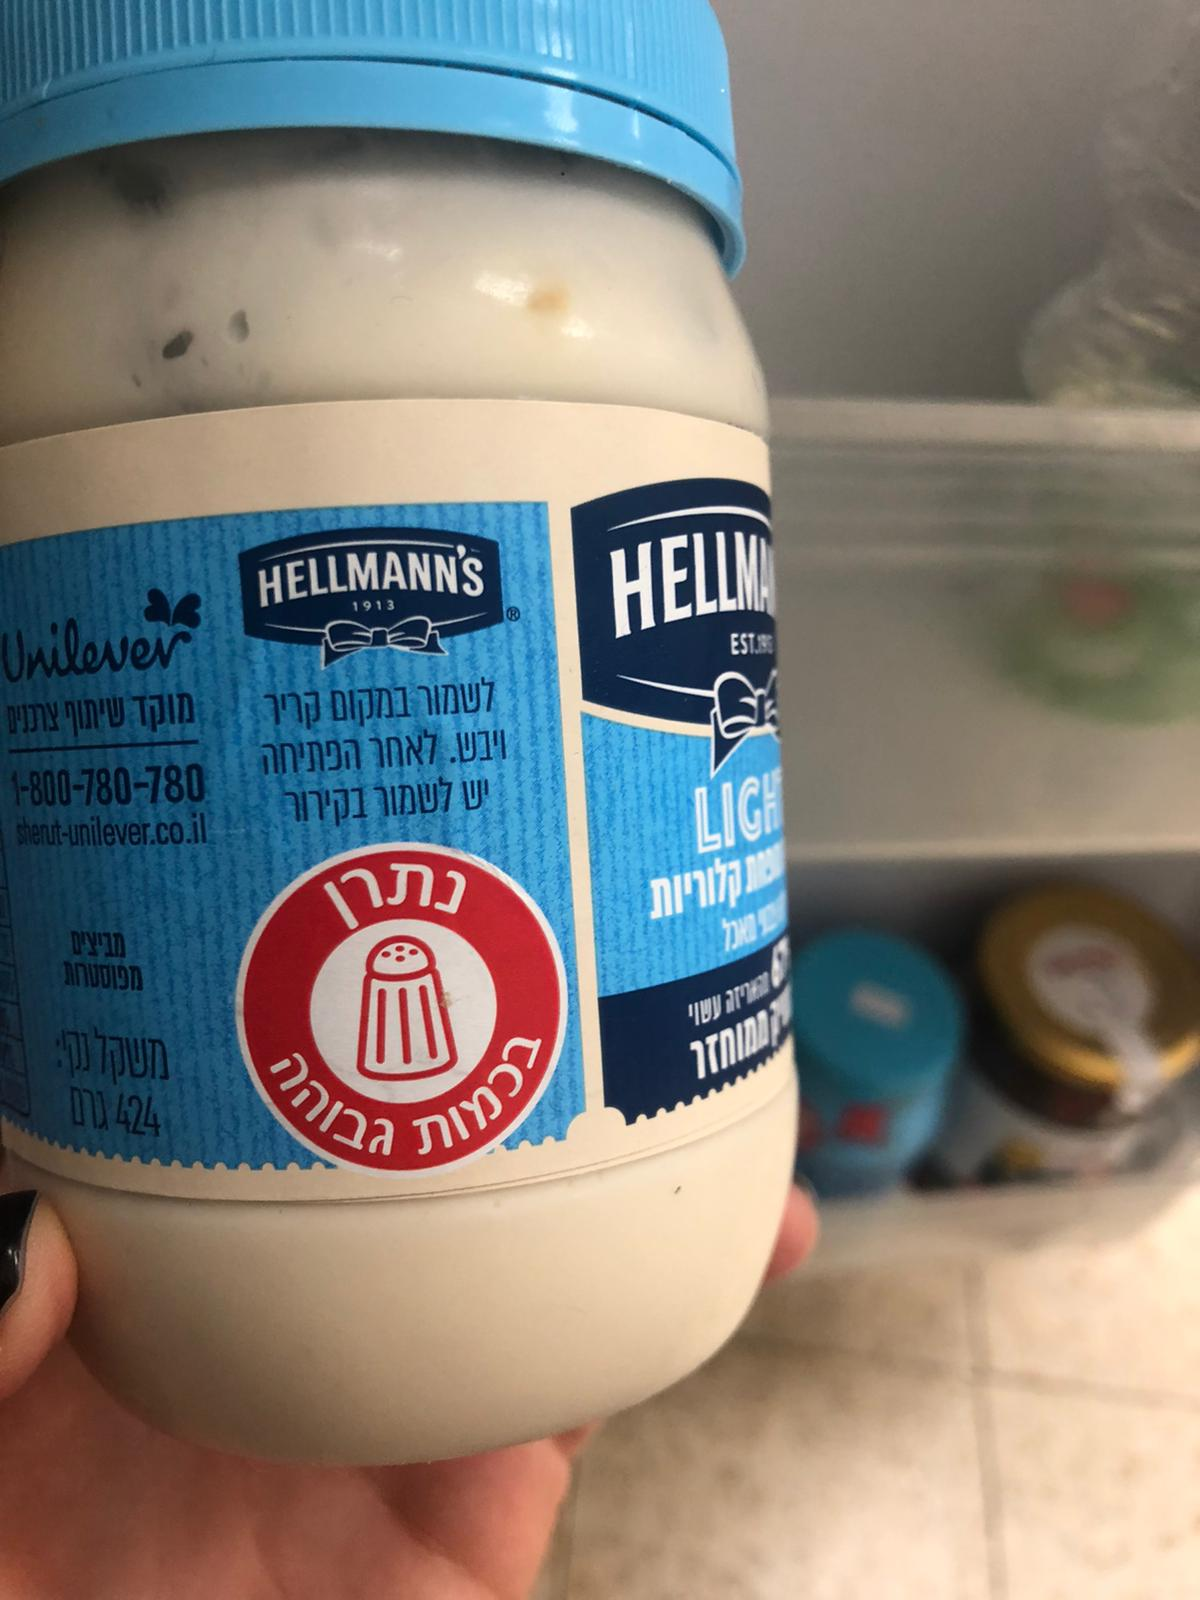salt: (232, 840, 572, 1175)
